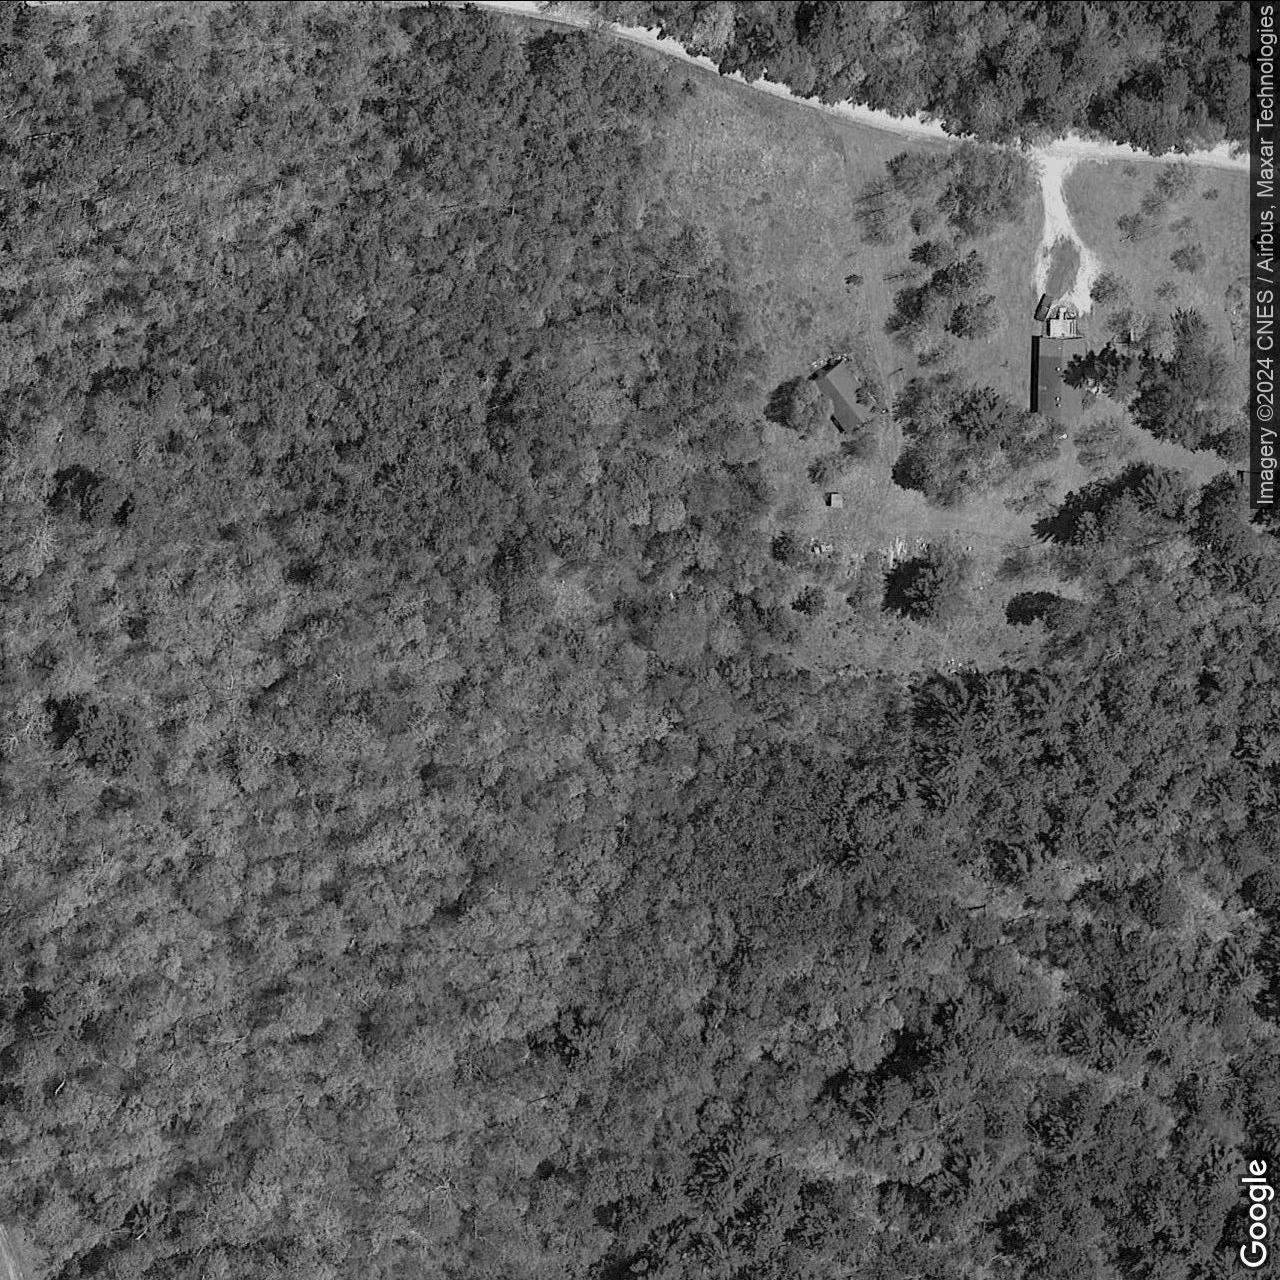Garage: (809, 352, 880, 434)
House: (1035, 334, 1085, 417)
